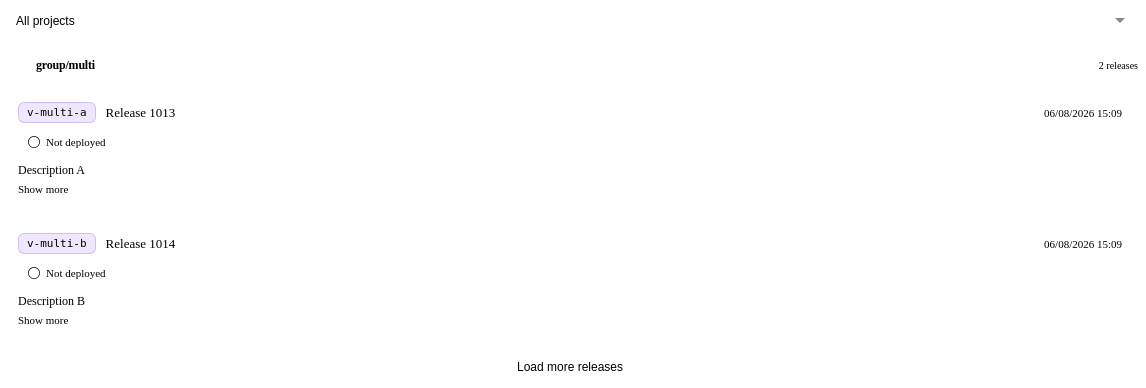
Test case: POView › description expand/collapse › expands/collapses each release independently
Expected: the text "v-multi-a" is shown, [18,102,96,123]
Click the text "Show more" below "Description A". click: [43, 189]
box: [18,183,68,195]
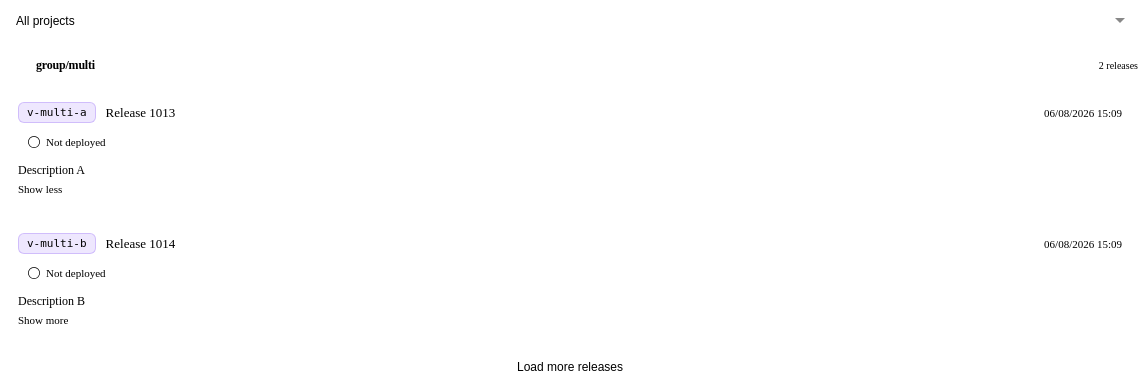
Expected: the text "Show more" is shown once, [18,314,68,326]
Expected: the text "Show less" is shown, [18,183,62,195]
